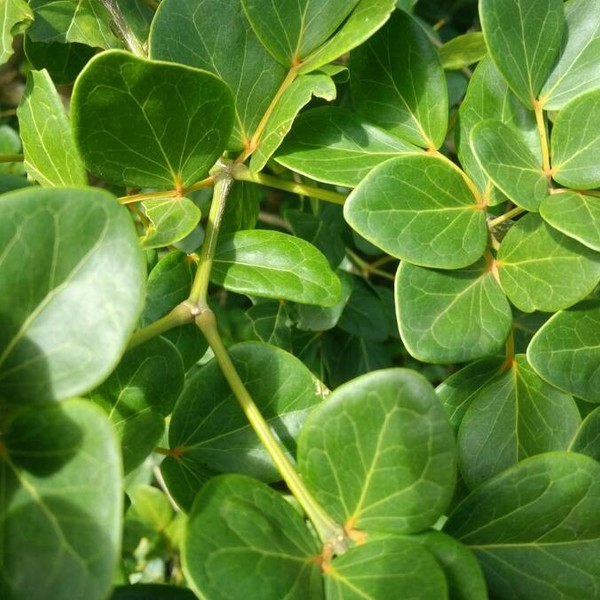obstacle: (17, 36, 577, 587)
